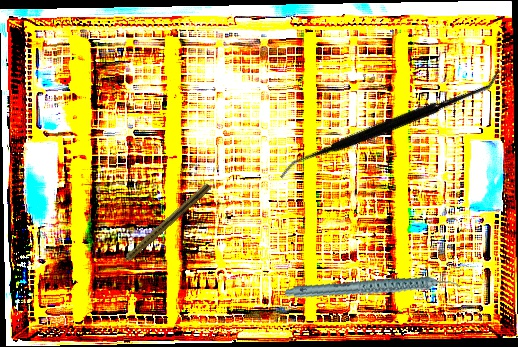Handpiece: (284, 251, 461, 328), (113, 181, 212, 271)
Spatula Surgical: (278, 0, 502, 247)
